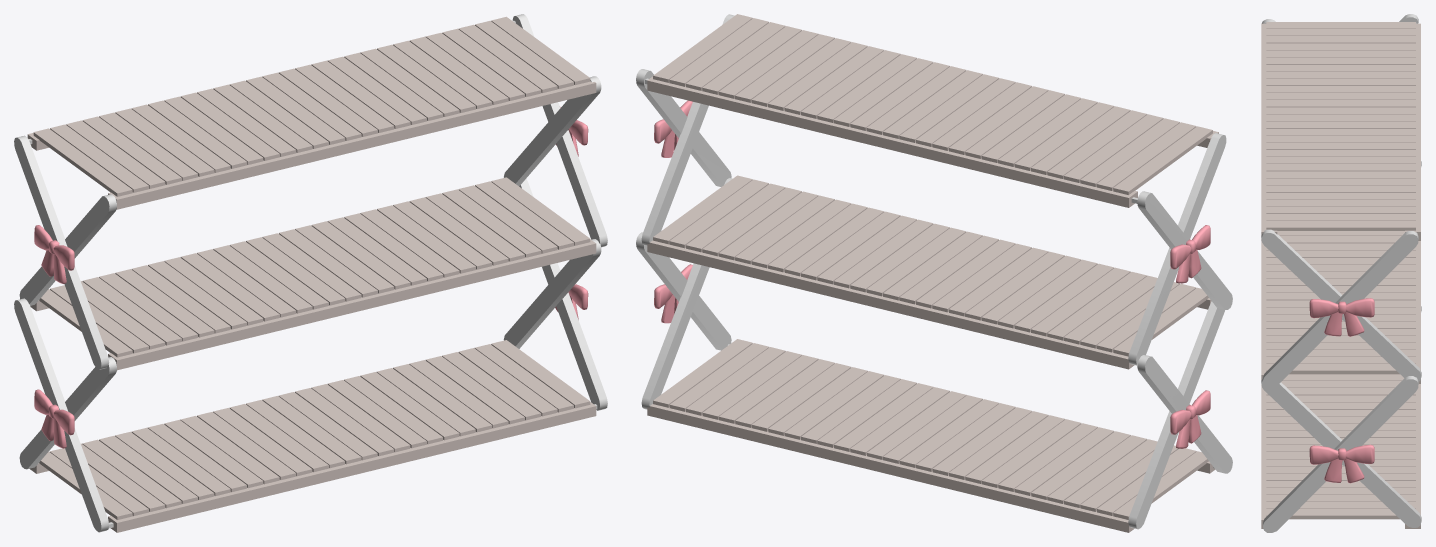
File: bookshelf_K.fbx
3 views of the same model, side by side, from view 1: azimuth 30°, elevation 25°; view 2: azimuth 150°, elevation 25°; view 3: azimuth 270°, elevation 25° (orthographic). The views are drawn at different scales.
Visible parts, largest first — view 1: pasted__polySurface83.001, polySurface112, polySurface9.001, polySurface9.003; view 2: pasted__polySurface83.001, polySurface112, polySurface9.003, polySurface9.001, polySurface9.004, polySurface9.002; view 3: pasted__polySurface83.001, polySurface112, polySurface9.002, polySurface9.004.
Boxes of the visible parts, x1=… form: pasted__polySurface83.001: x1=27, y1=16, x2=596, y2=532; polySurface112: x1=14, y1=14, x2=607, y2=532; polySurface9.001: x1=34, y1=389, x2=74, y2=448; polySurface9.003: x1=34, y1=225, x2=74, y2=283; pasted__polySurface83.001: x1=647, y1=14, x2=1218, y2=532; polySurface112: x1=636, y1=14, x2=1232, y2=529; polySurface9.003: x1=1170, y1=225, x2=1210, y2=283; polySurface9.001: x1=1170, y1=390, x2=1210, y2=448; polySurface9.004: x1=654, y1=100, x2=692, y2=157; polySurface9.002: x1=654, y1=264, x2=692, y2=323; pasted__polySurface83.001: x1=1261, y1=22, x2=1420, y2=528; polySurface112: x1=1261, y1=14, x2=1421, y2=532; polySurface9.002: x1=1309, y1=444, x2=1374, y2=483; polySurface9.004: x1=1309, y1=298, x2=1374, y2=336.
Size of the model in its own units: 91.06 by 56.18 by 27.2.
